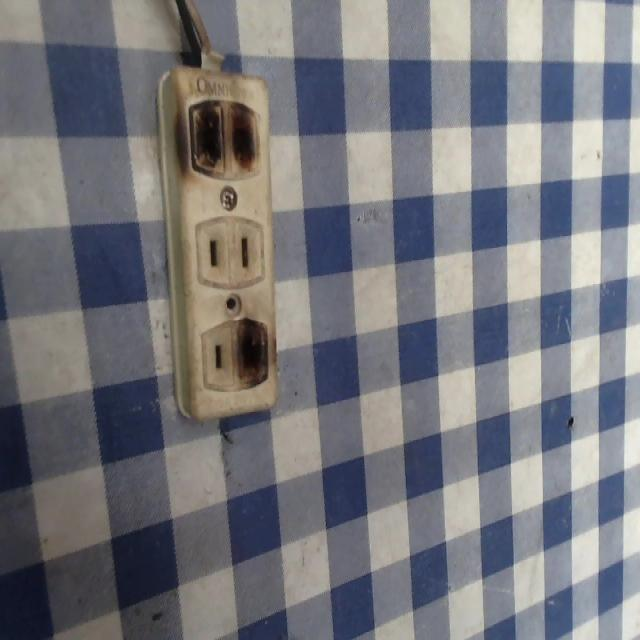-: (184, 93, 264, 183), (232, 316, 271, 393)
